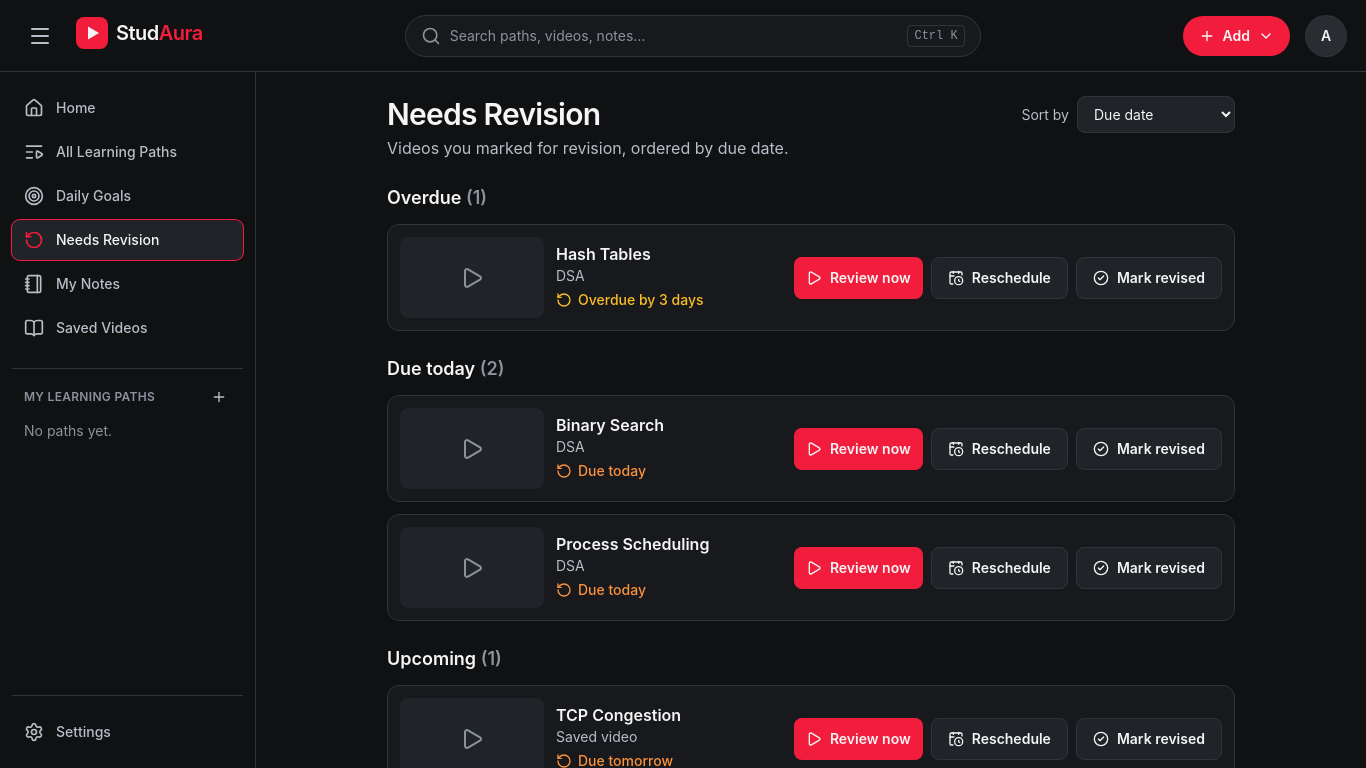
Test case: Needs Revision page › reschedules from the list
Step 1. Click the button with aria-label "Reschedule Hash Tables" → click(999, 278), box x1=931 y1=256 x2=1068 y2=298
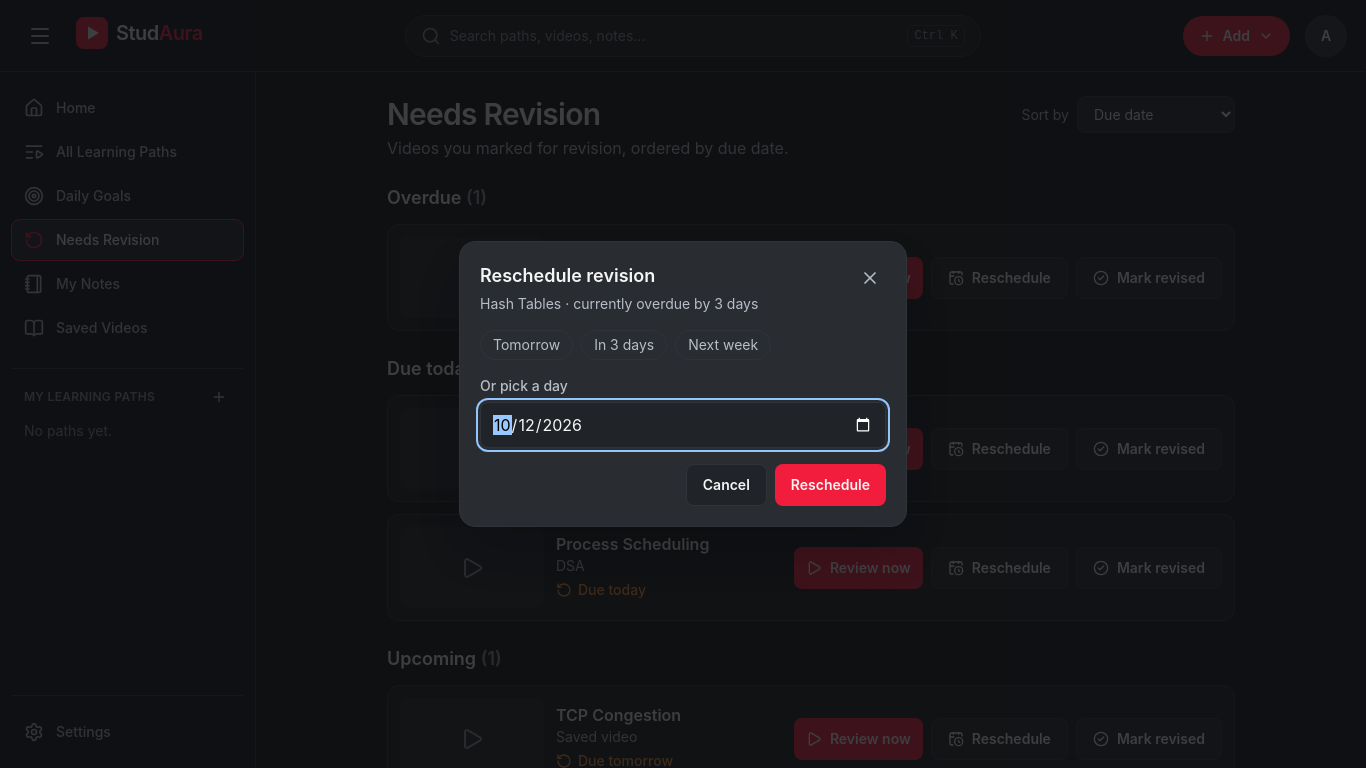
Step 2. Click the button "In 3 days" → click(624, 345), box x1=581 y1=330 x2=667 y2=360
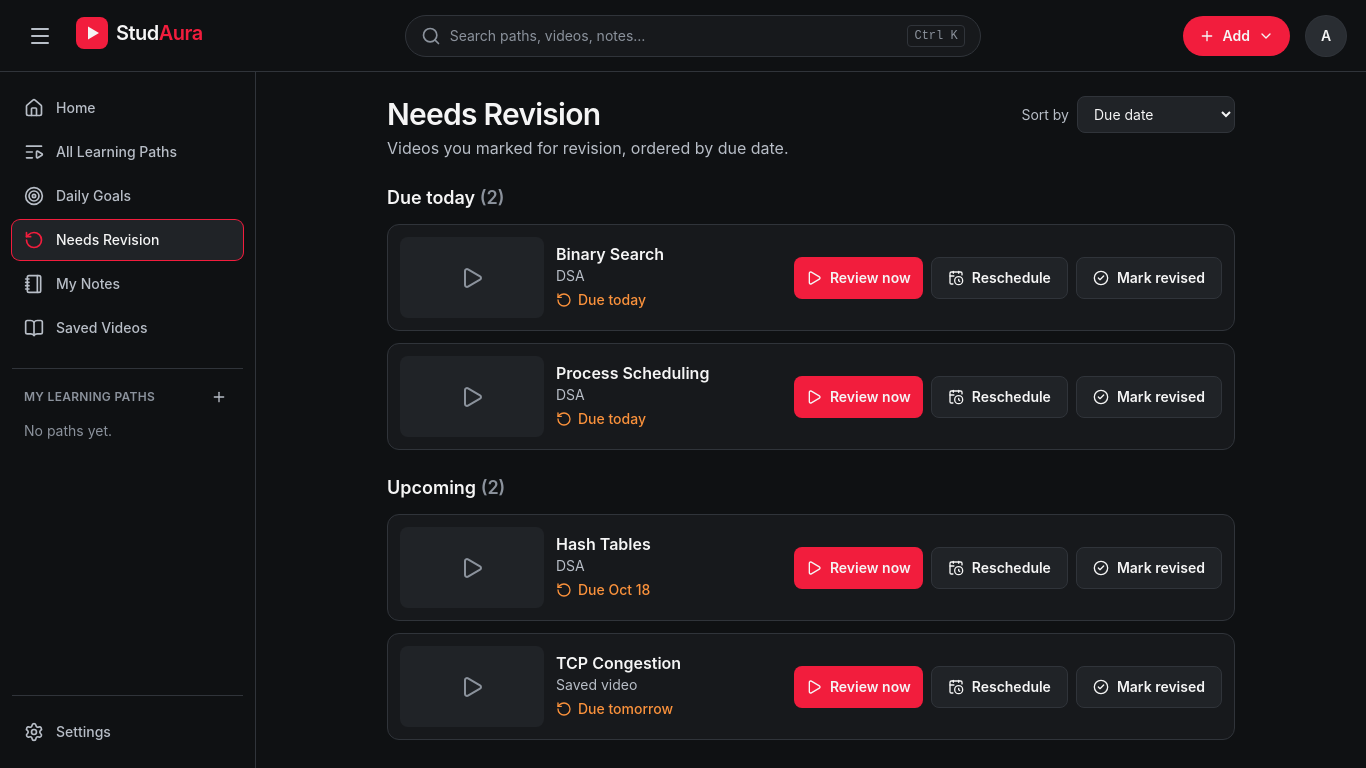
Expected: the heading "Hash Tables" is shown, x1=556 y1=534 x2=651 y2=554
Now the dialog is gone
Now the heading "Overdue" is gone
